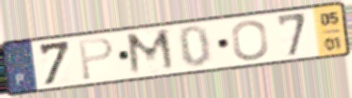0: (177, 24, 213, 70)
7: (38, 39, 73, 88), (275, 11, 309, 59)
M: (124, 27, 179, 78)
O: (229, 18, 271, 63)
P: (77, 35, 116, 83)
